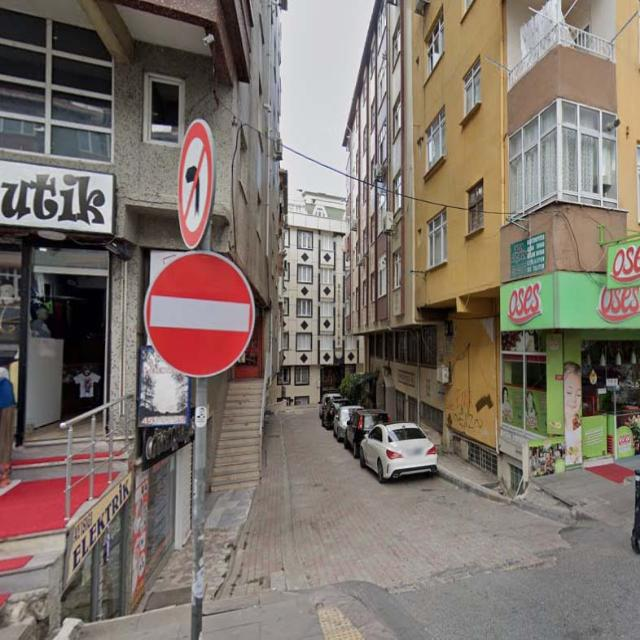girisyok: (146, 251, 255, 378)
soladonulmez: (178, 119, 214, 247)
